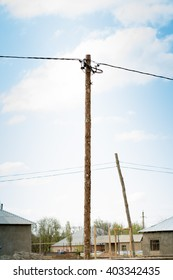light_pole: (76, 51, 94, 261)
